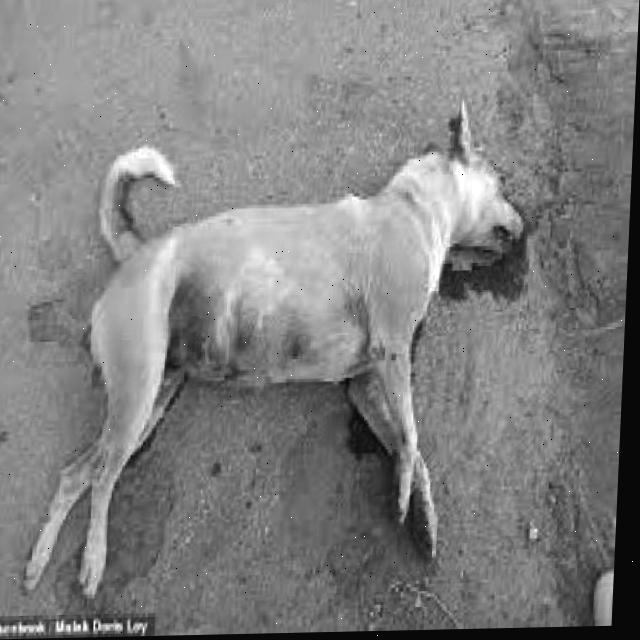Dog: (18, 96, 549, 624)
